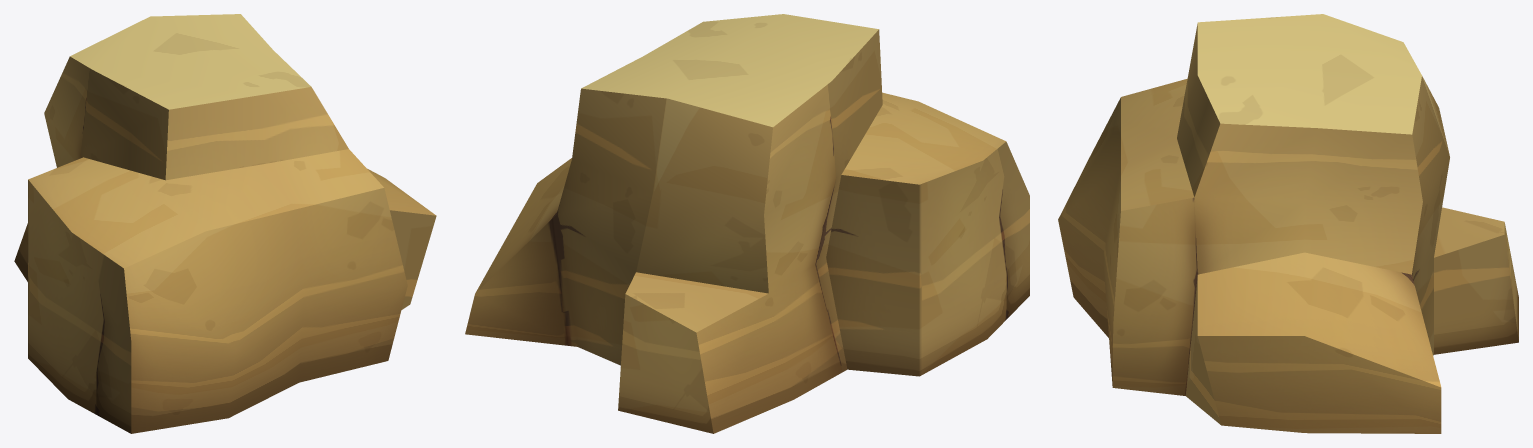
Rendered from F_W_O_rock_001.fbx.
3 views of the same model, side by side, from view 1: azimuth 30°, elevation 25°; view 2: azimuth 150°, elevation 25°; view 3: azimuth 270°, elevation 25° (orthographic). The views are drawn at different scales.
Parts seen in each view (by area): view 1: F_W_O_rock_001; view 2: F_W_O_rock_001; view 3: F_W_O_rock_001.
Part boxes in pixels (bbox=[...]): F_W_O_rock_001: bbox=[14, 14, 436, 433]; F_W_O_rock_001: bbox=[465, 14, 1029, 433]; F_W_O_rock_001: bbox=[1058, 14, 1518, 433].
Bounding box in the file's own units: 4.36 × 2.97 × 4.52.
